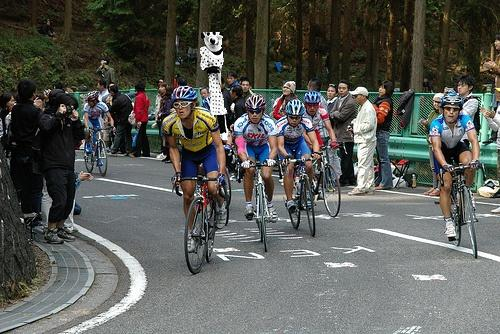tampered: (201, 33, 230, 140)
